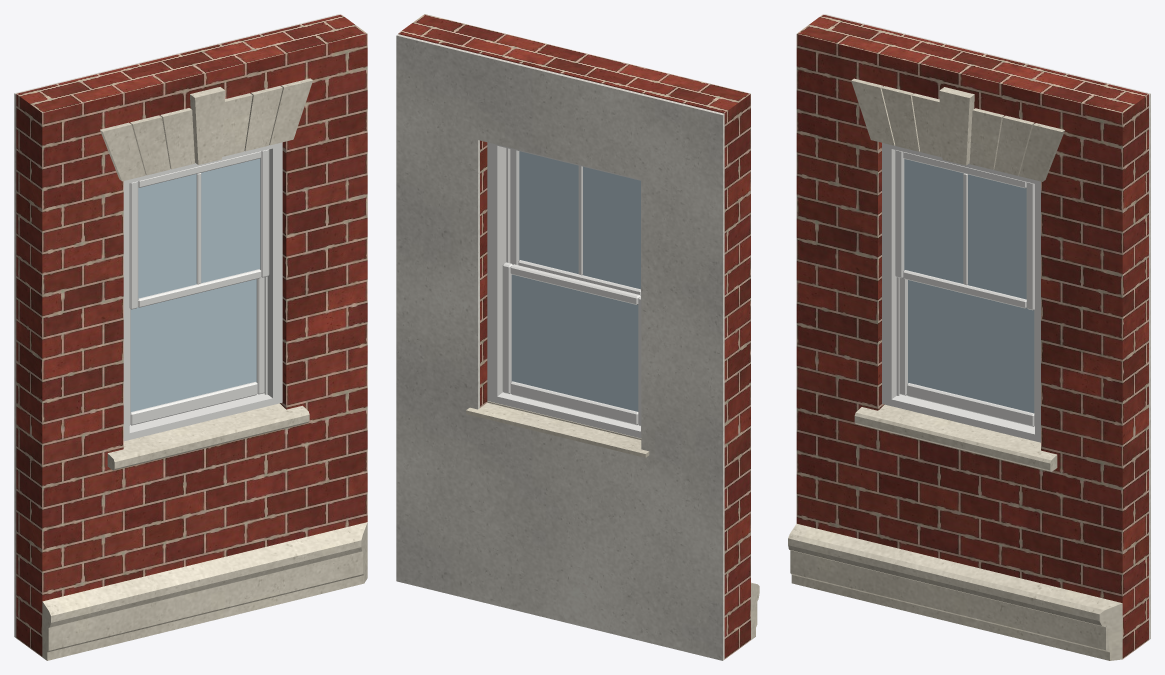
Rendered from u1_wall_window_pvl.glb.
3 views of the same model, side by side, from view 1: azimuth 30°, elevation 25°; view 2: azimuth 150°, elevation 25°; view 3: azimuth 330°, elevation 25° (orthographic).
Visible parts, largest first — view 1: u1_wall_window_pvl_brick, u1_wall_window_pvl_trim, u1_wall_window_pvl_glass, u1_wall_window_pvl_frame, u1_wall_window_pvl_sash, u1_wall_window_pvl_plaster; view 2: u1_wall_window_pvl_plaster, u1_wall_window_pvl_glass, u1_wall_window_pvl_brick, u1_wall_window_pvl_frame, u1_wall_window_pvl_sash, u1_wall_window_pvl_trim; view 3: u1_wall_window_pvl_brick, u1_wall_window_pvl_trim, u1_wall_window_pvl_glass, u1_wall_window_pvl_frame, u1_wall_window_pvl_sash, u1_wall_window_pvl_plaster.
Boxes of the visible parts, x1=… form: u1_wall_window_pvl_brick: x1=16, y1=14, x2=367, y2=656; u1_wall_window_pvl_trim: x1=42, y1=78, x2=367, y2=660; u1_wall_window_pvl_glass: x1=130, y1=158, x2=260, y2=411; u1_wall_window_pvl_frame: x1=123, y1=142, x2=282, y2=441; u1_wall_window_pvl_sash: x1=129, y1=149, x2=269, y2=425; u1_wall_window_pvl_plaster: x1=14, y1=14, x2=339, y2=637; u1_wall_window_pvl_plaster: x1=396, y1=34, x2=724, y2=660; u1_wall_window_pvl_glass: x1=511, y1=151, x2=640, y2=411; u1_wall_window_pvl_brick: x1=398, y1=14, x2=750, y2=659; u1_wall_window_pvl_frame: x1=487, y1=142, x2=641, y2=438; u1_wall_window_pvl_sash: x1=502, y1=149, x2=640, y2=425; u1_wall_window_pvl_trim: x1=466, y1=401, x2=759, y2=639; u1_wall_window_pvl_brick: x1=796, y1=14, x2=1148, y2=658; u1_wall_window_pvl_trim: x1=788, y1=78, x2=1122, y2=660; u1_wall_window_pvl_glass: x1=904, y1=159, x2=1034, y2=413; u1_wall_window_pvl_frame: x1=882, y1=143, x2=1040, y2=442; u1_wall_window_pvl_sash: x1=895, y1=150, x2=1034, y2=426; u1_wall_window_pvl_plaster: x1=824, y1=14, x2=1150, y2=639.
Bounding box in the file's own units: 2 × 3.2 × 0.43.
Materials: 6 (3 with a texture image).
